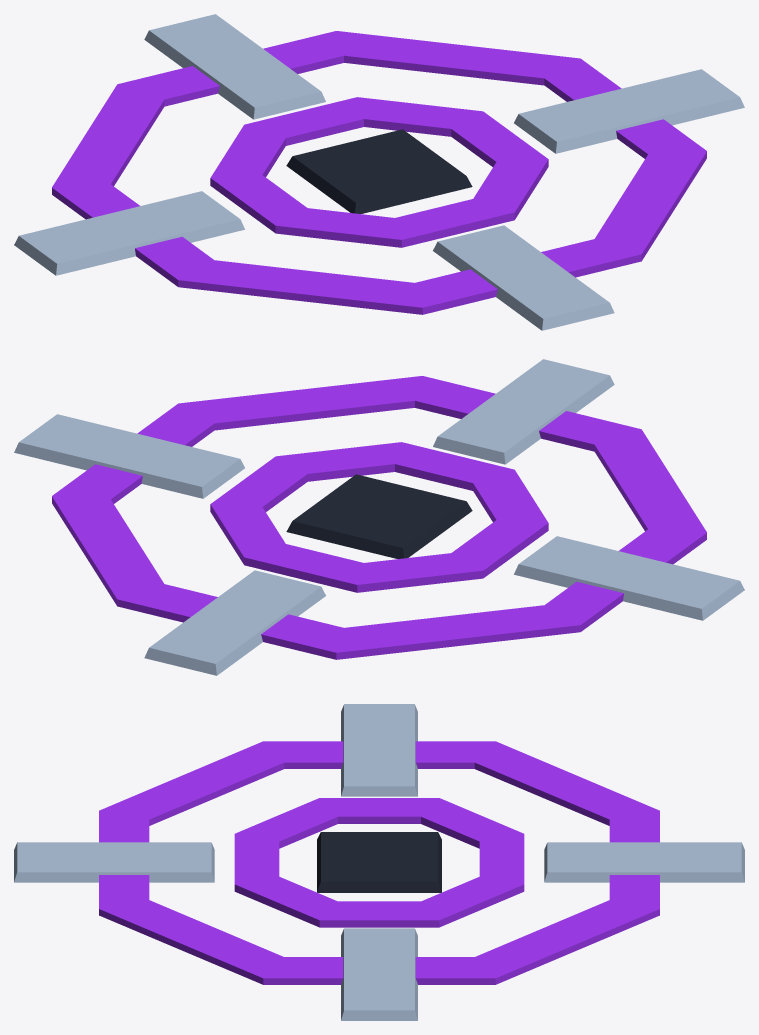
Rendered from SM_ArenaTile_Overlay_04_MagneticStorm.obj.
The picture shows the model from 3 angles, top to bottom: view 1: azimuth 30°, elevation 25°; view 2: azimuth 150°, elevation 25°; view 3: azimuth 270°, elevation 25°; orthographic projection. The views are drawn at different scales.
Parts seen in each view (by area): view 1: SM_ArenaTile_Overlay_04_MagneticStorm__EMI_Magnetic, SM_ArenaTile_Overlay_04_MagneticStorm__MAT_LightTrim, SM_ArenaTile_Overlay_04_MagneticStorm__MAT_DarkNeutral; view 2: SM_ArenaTile_Overlay_04_MagneticStorm__EMI_Magnetic, SM_ArenaTile_Overlay_04_MagneticStorm__MAT_LightTrim, SM_ArenaTile_Overlay_04_MagneticStorm__MAT_DarkNeutral; view 3: SM_ArenaTile_Overlay_04_MagneticStorm__EMI_Magnetic, SM_ArenaTile_Overlay_04_MagneticStorm__MAT_LightTrim, SM_ArenaTile_Overlay_04_MagneticStorm__MAT_DarkNeutral.
Boxes of the visible parts, <box> form: SM_ArenaTile_Overlay_04_MagneticStorm__EMI_Magnetic: <box>52,31,706,314</box>; SM_ArenaTile_Overlay_04_MagneticStorm__MAT_LightTrim: <box>14,14,744,330</box>; SM_ArenaTile_Overlay_04_MagneticStorm__MAT_DarkNeutral: <box>286,129,472,213</box>; SM_ArenaTile_Overlay_04_MagneticStorm__EMI_Magnetic: <box>52,376,706,659</box>; SM_ArenaTile_Overlay_04_MagneticStorm__MAT_LightTrim: <box>14,359,744,675</box>; SM_ArenaTile_Overlay_04_MagneticStorm__MAT_DarkNeutral: <box>286,474,472,558</box>; SM_ArenaTile_Overlay_04_MagneticStorm__EMI_Magnetic: <box>99,741,659,984</box>; SM_ArenaTile_Overlay_04_MagneticStorm__MAT_LightTrim: <box>14,704,744,1020</box>; SM_ArenaTile_Overlay_04_MagneticStorm__MAT_DarkNeutral: <box>317,832,441,892</box>.
Bounding box in the file's own units: 9.1 × 0.13 × 9.1.
3 materials, 3 textured.
